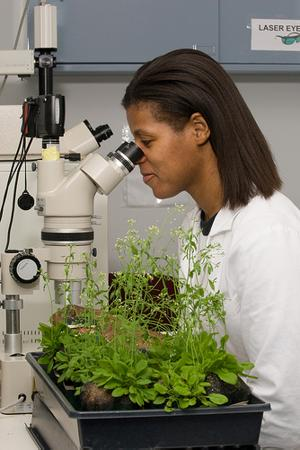person: (123, 49, 300, 447)
